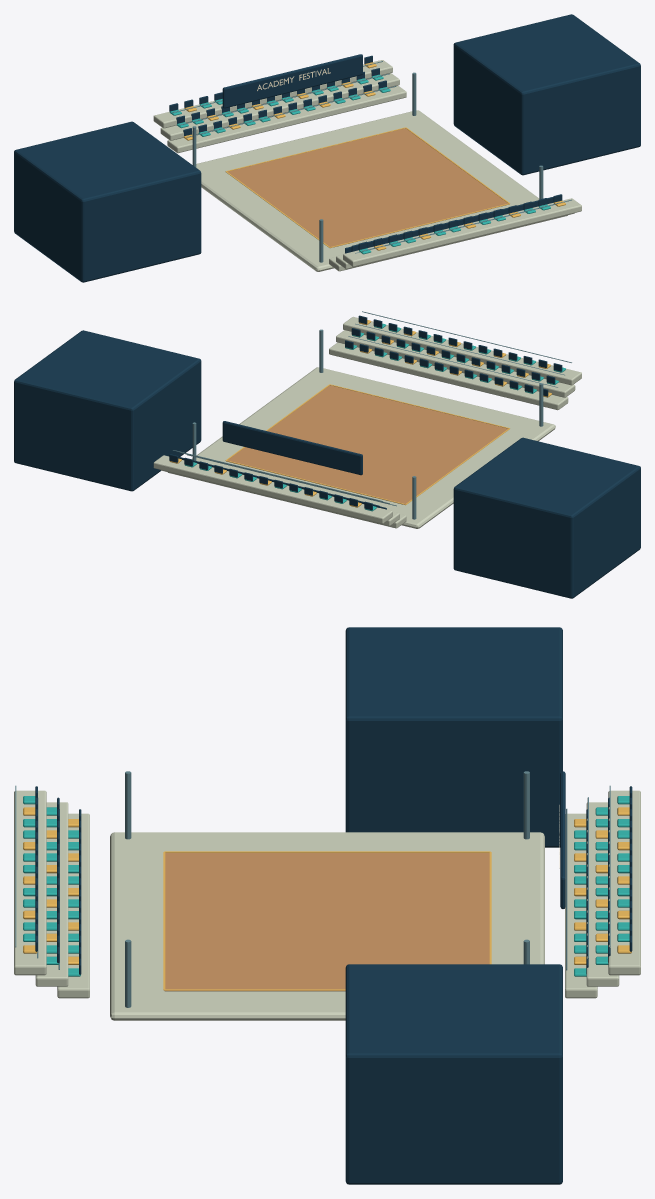
The model's file is festival-roof.glb.
3 renders of one model, top to bottom at view 1: azimuth 30°, elevation 25°; view 2: azimuth 150°, elevation 25°; view 3: azimuth 270°, elevation 25°, orthographic. The views are drawn at different scales.
Visible parts, largest first — view 1: Venue; view 2: Venue; view 3: Venue.
Boxes of the visible parts, box(x1,y1,x2,y2) form: Venue: box(14, 14, 640, 282); Venue: box(14, 311, 640, 598); Venue: box(14, 627, 640, 1184).
Bounding box in the file's own units: 56 × 9 × 34.6.
